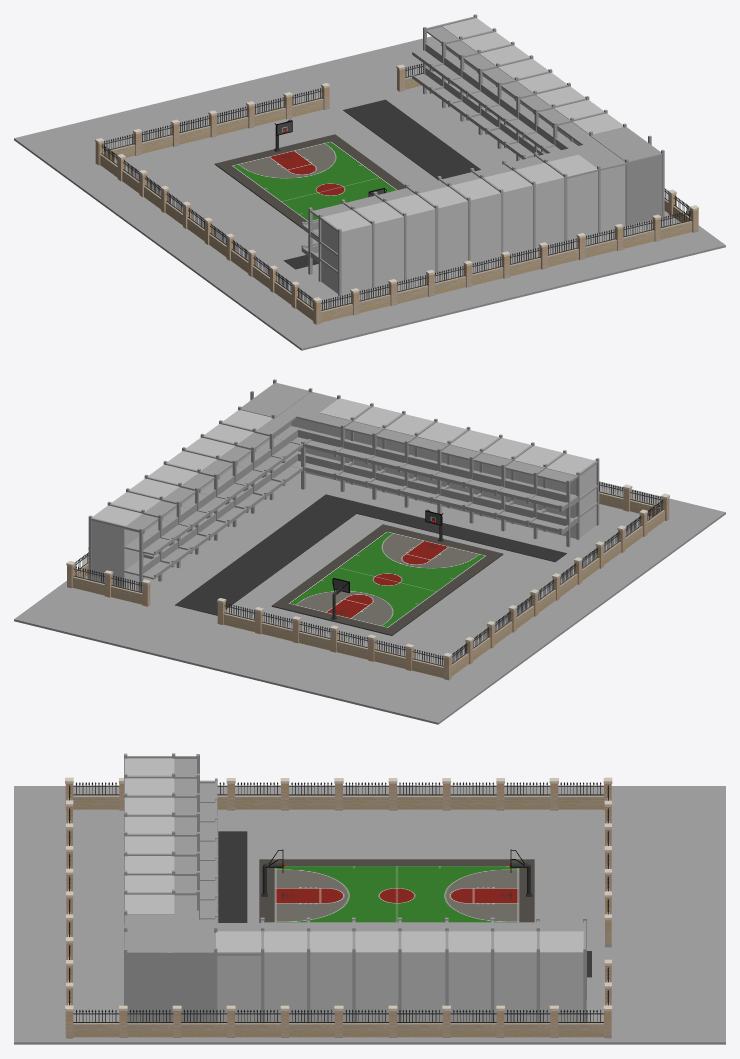
Rendered from test_school.fbx.
The picture shows the model from 3 angles, top to bottom: view 1: azimuth 30°, elevation 25°; view 2: azimuth 150°, elevation 25°; view 3: azimuth 270°, elevation 25°; orthographic projection. The views are drawn at different scales.
Visible parts, largest first — view 1: pCube1, polySurface53, Basketball_Court:Floor1, group14, group8_pCube1, group8_pCube3, pCube3, group8_pCube4, group15; view 2: pCube1, polySurface53, Basketball_Court:Floor1, pCube3, group14, group8_pCube1, pCube2, group8_pCube3, group9, group16; view 3: pCube1, polySurface53, Basketball_Court:Floor1, group15, group14, pCube2, group8_pCube1, group8_pCube3, group8_pCube4.
Boxes of the visible parts, x1,y1,x2,y2 form: pCube1: (14, 36, 725, 350); polySurface53: (301, 14, 664, 295); Basketball_Court:Floor1: (215, 134, 404, 226); group14: (96, 138, 321, 324); group8_pCube1: (95, 83, 330, 165); group8_pCube3: (312, 242, 547, 324); pCube3: (343, 99, 480, 179); group8_pCube4: (539, 205, 698, 269); group15: (664, 188, 698, 232); pCube1: (14, 472, 725, 724); polySurface53: (88, 379, 599, 591); Basketball_Court:Floor1: (272, 524, 502, 634); pCube3: (175, 503, 356, 615); group14: (443, 493, 669, 680); group8_pCube1: (217, 598, 452, 679); pCube2: (314, 494, 566, 562); group8_pCube3: (599, 482, 669, 520); group9: (104, 570, 150, 606); group16: (66, 561, 112, 597); pCube1: (14, 786, 725, 1044); polySurface53: (124, 753, 586, 1023); Basketball_Court:Floor1: (259, 859, 534, 922); group15: (65, 1005, 612, 1037); group14: (65, 778, 612, 810); pCube2: (218, 831, 247, 922); group8_pCube1: (604, 777, 611, 947); group8_pCube3: (66, 777, 73, 917); group8_pCube4: (66, 917, 73, 1038).
Size of the model in its own units: 681 by 113 by 799.
